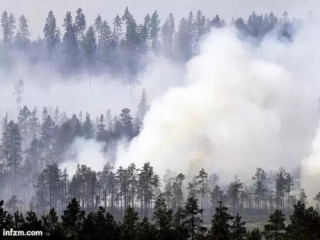smoke: (112, 34, 313, 175)
